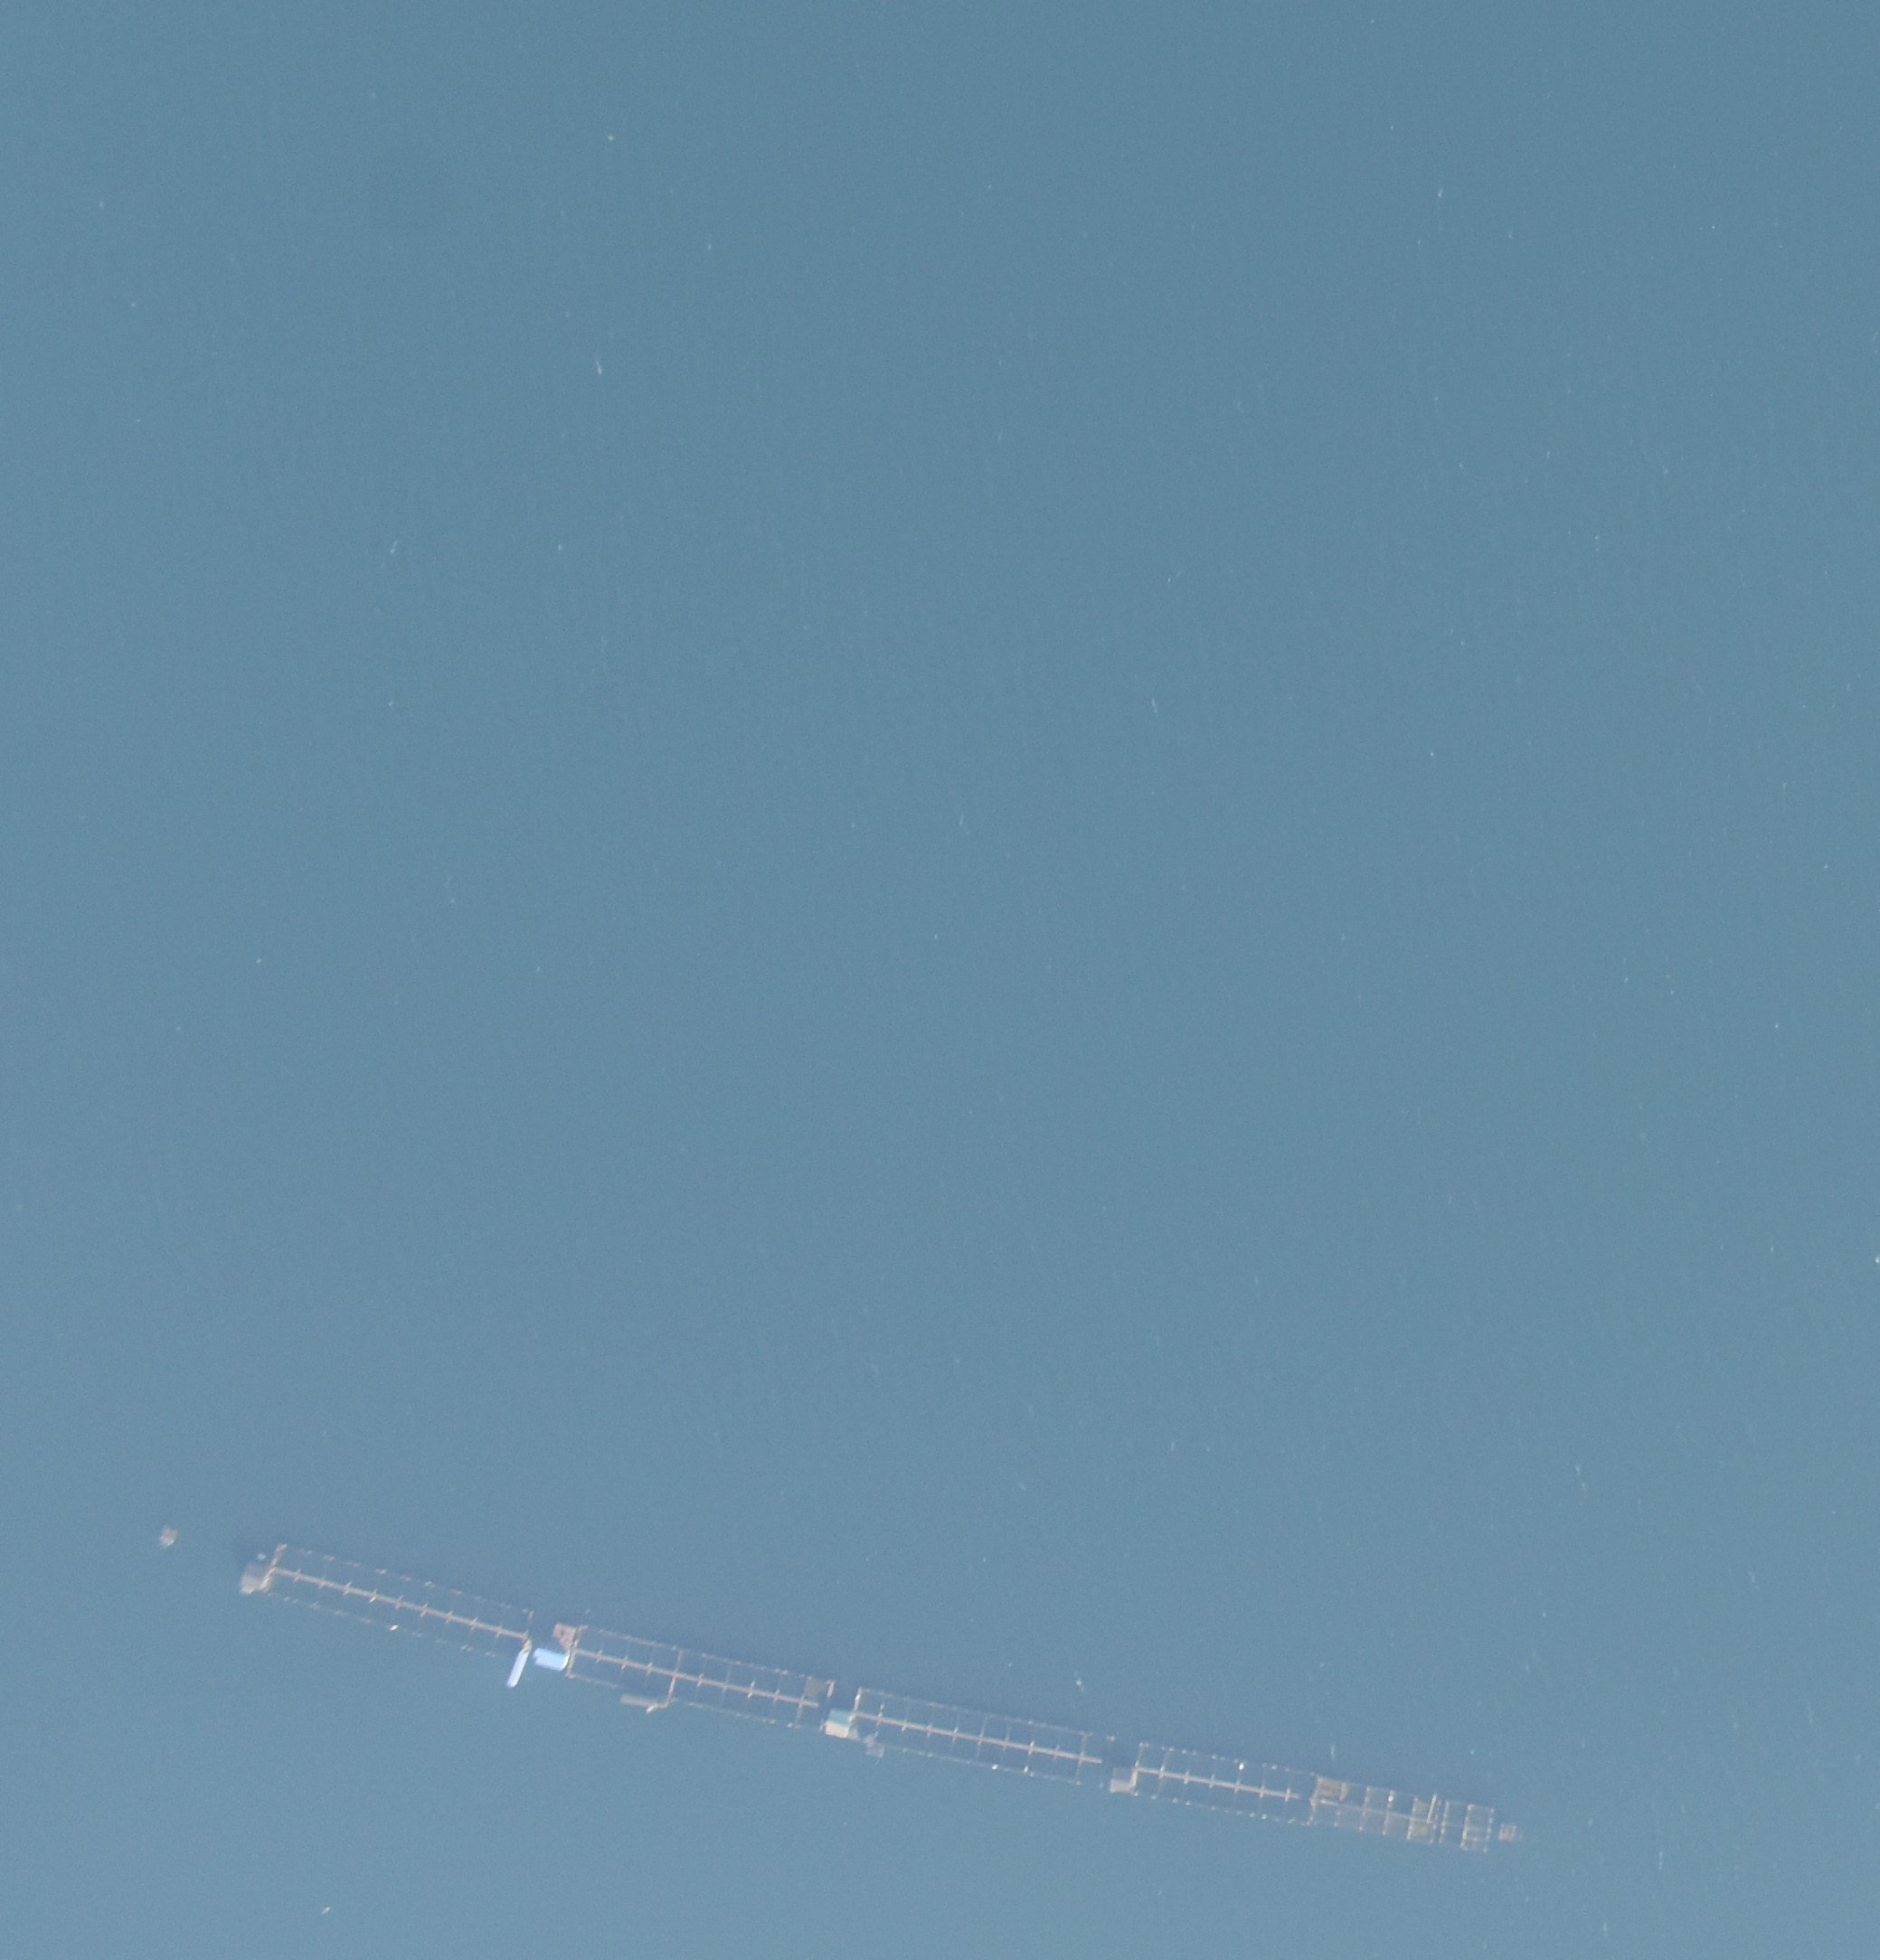cultivation-mesh-cage: (1129, 1739, 1498, 1860), (261, 1542, 539, 1659), (567, 1621, 841, 1732), (846, 1688, 1119, 1797)
prefabricated-house: (505, 1639, 539, 1688), (536, 1648, 573, 1676), (823, 1706, 852, 1737), (243, 1556, 268, 1592), (1109, 1761, 1136, 1793), (1499, 1820, 1517, 1842), (158, 1526, 175, 1543)
